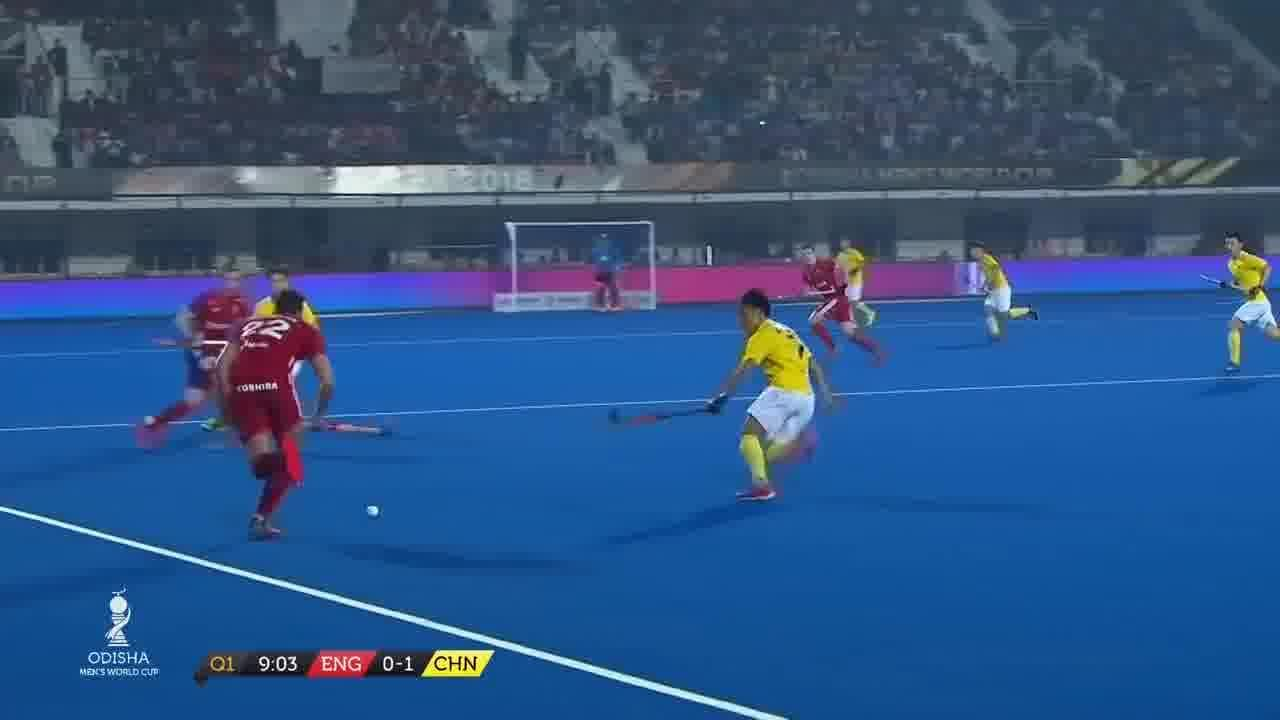ball: (352, 492, 392, 528)
